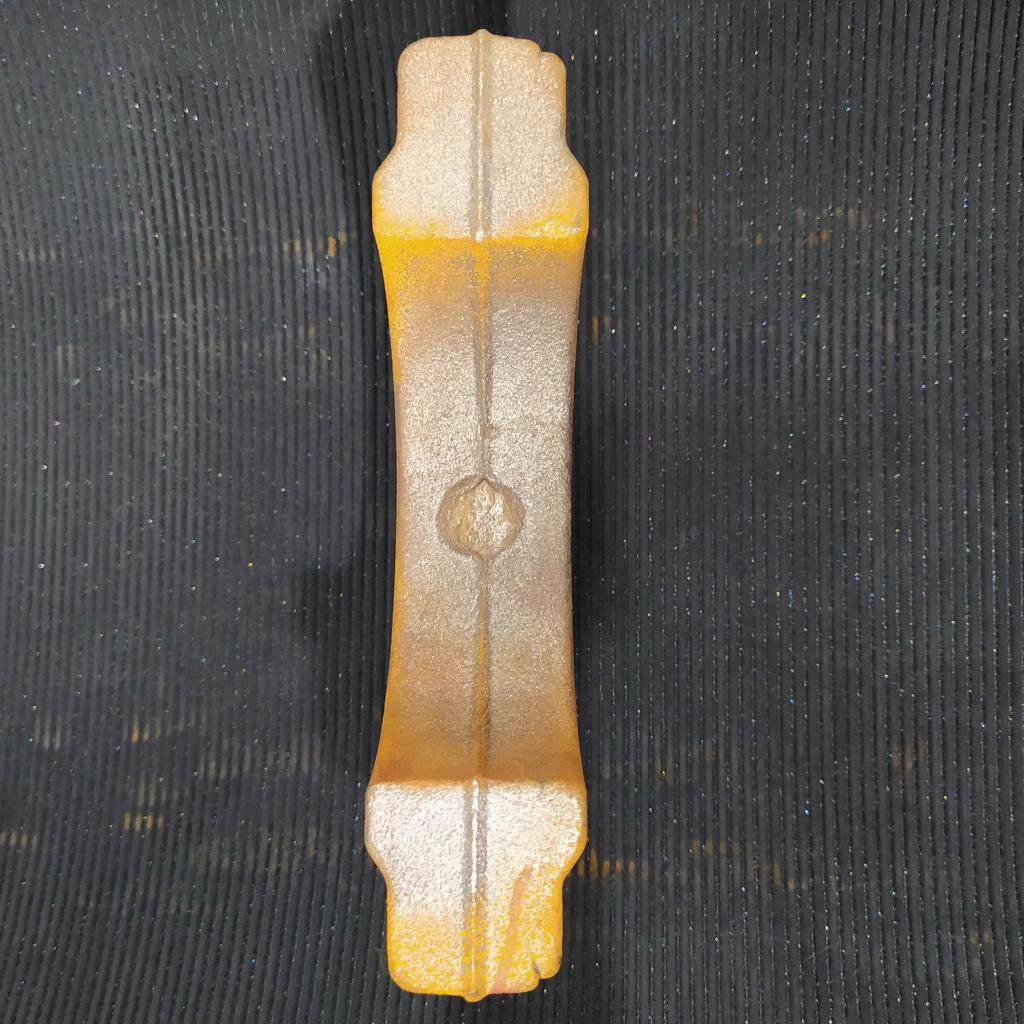rechupe: (526, 957, 553, 991), (533, 42, 555, 65)
